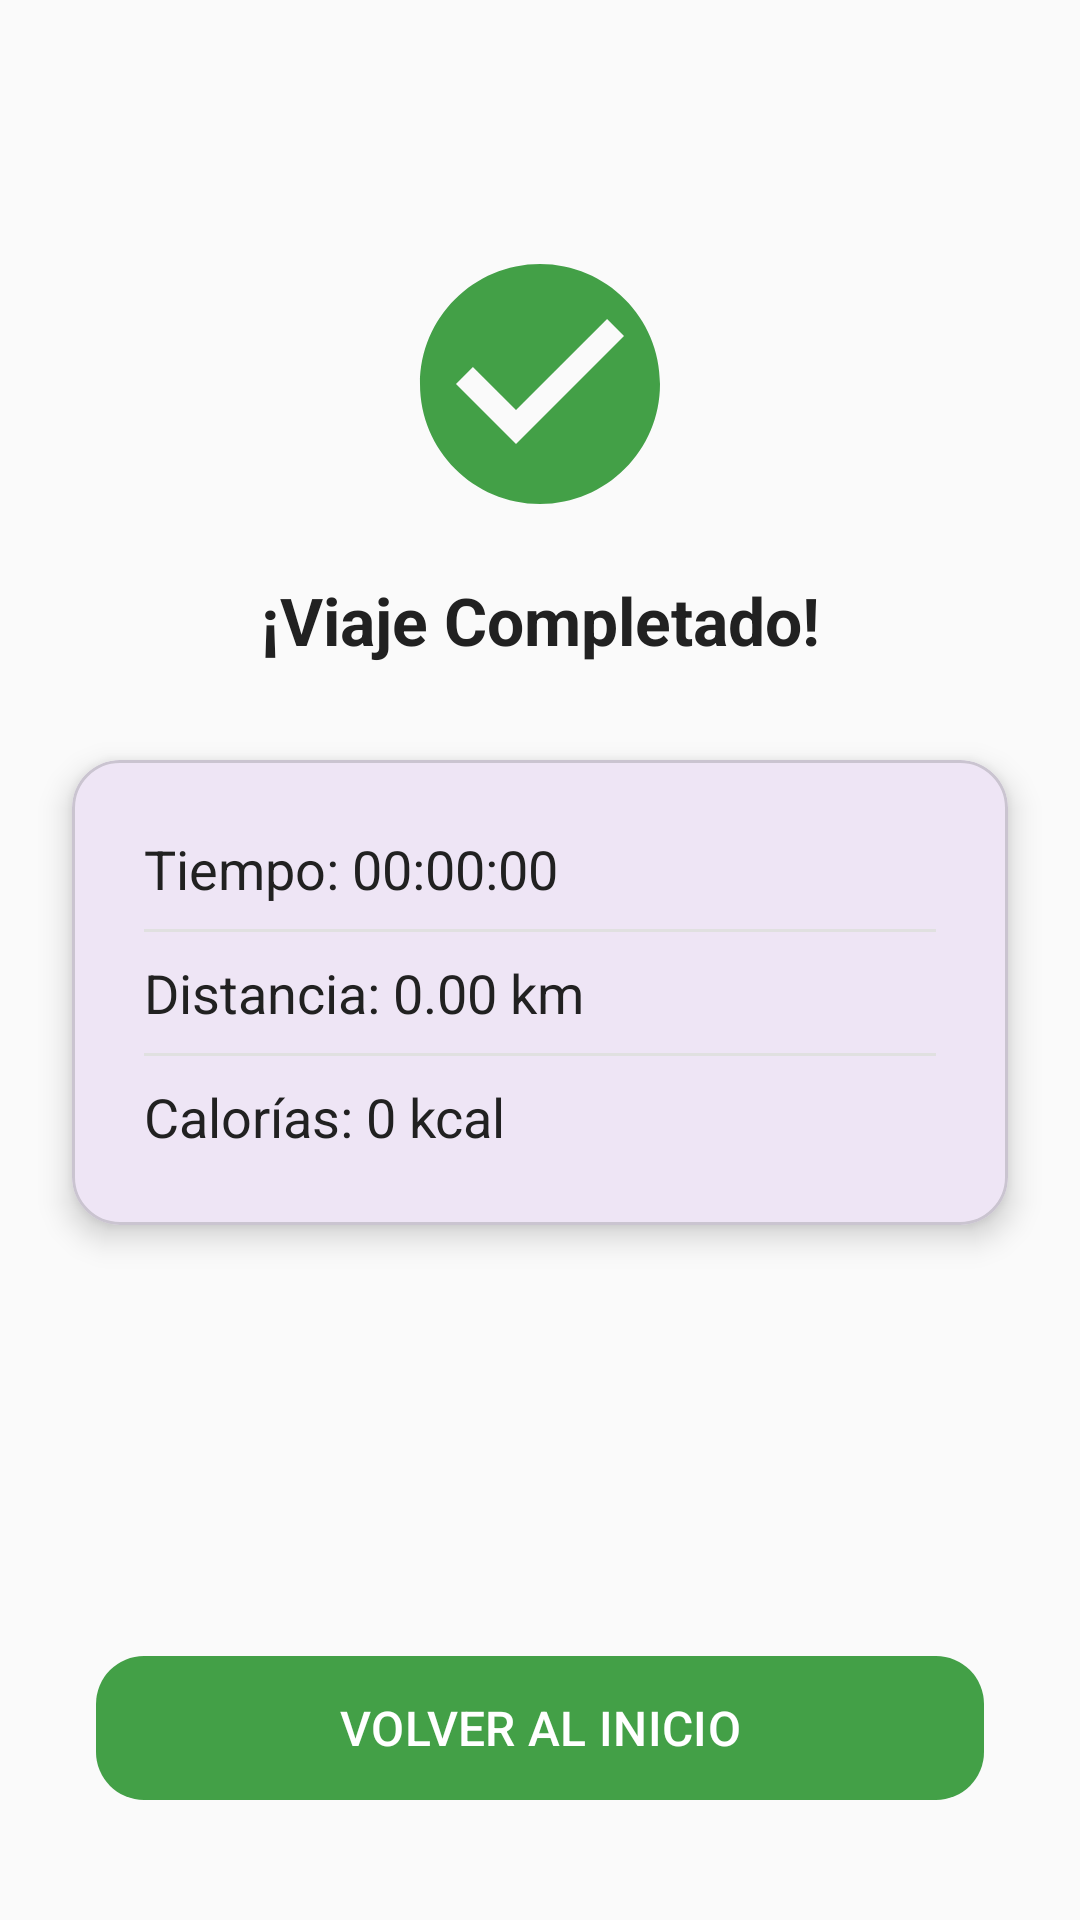

Point at icon controls on the screen. Image size 1080w x 1920h, points as point (x, y).
check circle: point (540, 384)
